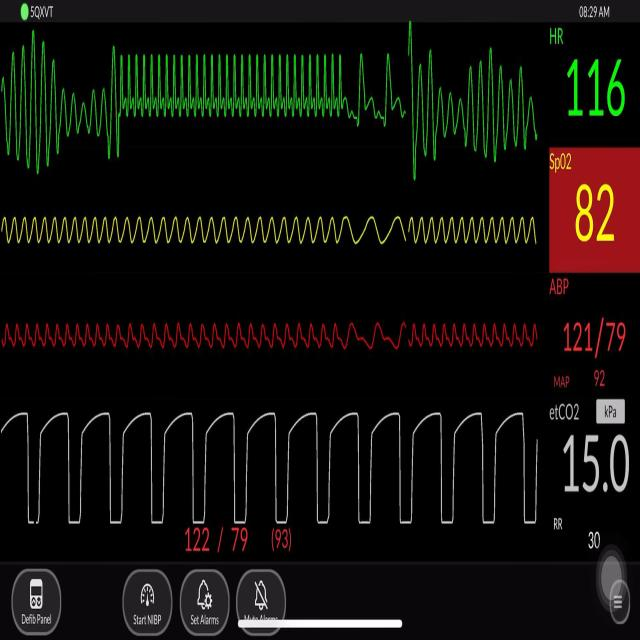danger: (408, 14, 538, 194), (110, 36, 347, 130), (3, 14, 104, 184)
